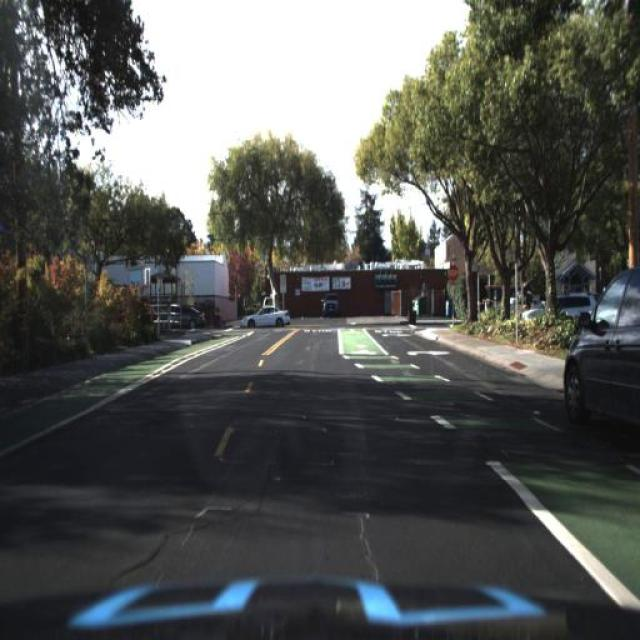car: (564, 264, 640, 453), (520, 285, 598, 340), (237, 300, 291, 330), (241, 301, 288, 335), (158, 295, 206, 327), (161, 299, 205, 329), (317, 285, 343, 320), (322, 288, 342, 312)
